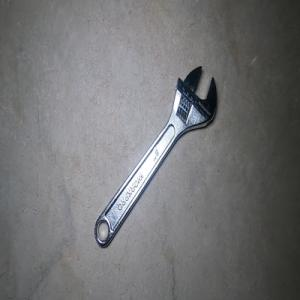Wrench: (94, 65, 217, 247)
